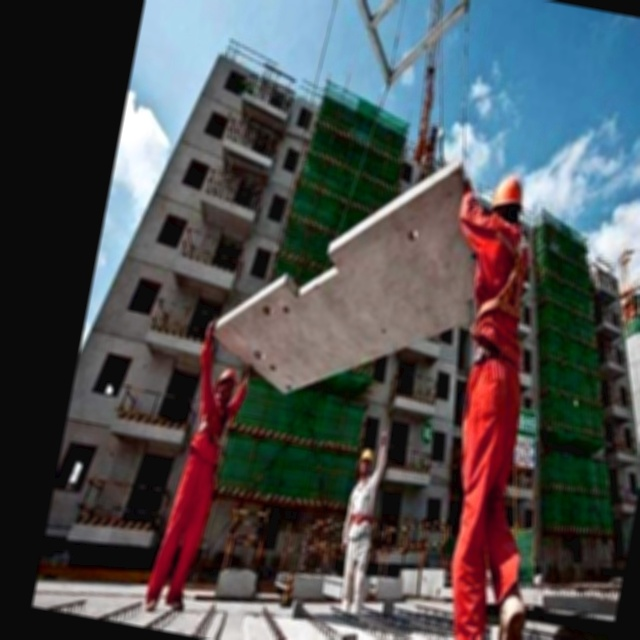Con_Casco: (488, 169, 527, 221), (212, 364, 240, 409)
